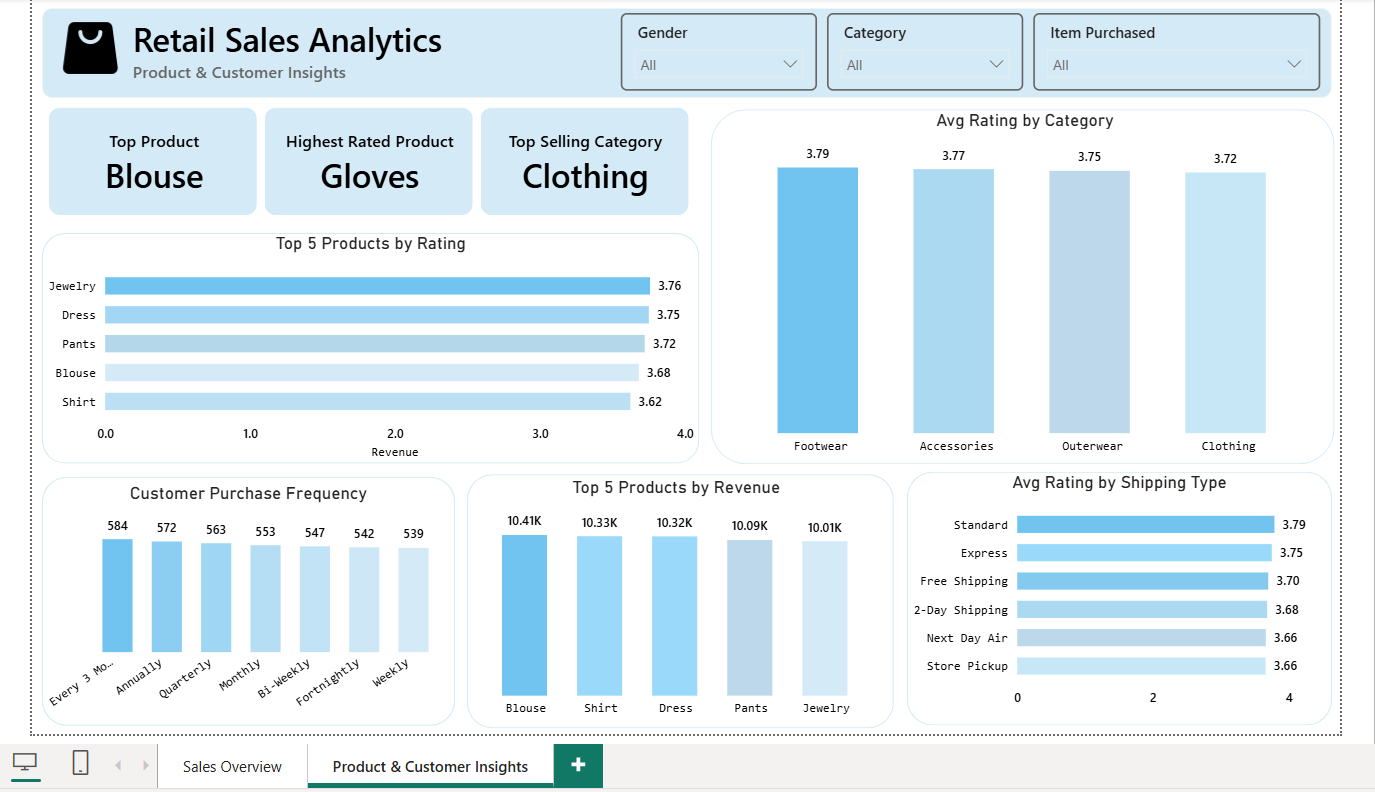

This screenshot's page, from the dashboard's own definition file:
{"tool":"powerbi","page":{"name":"Product & Customer Insights","canvas":[1280,720],"ordinal":1},"visuals":[{"type":"textbox","box":[9.7,9.7,1261.9,88.1],"z":0},{"type":"slicer","fields":{"Values":["customer_shopping.item_purchased"]},"box":[979.6,14.5,281.1,76],"z":1000},{"type":"slicer","fields":{"Values":["customer_shopping.category"]},"box":[778.2,14.5,191.8,76],"z":2000},{"type":"cardVisual","fields":{"Data":["All Measures.Top Product","All Measures.Highest Rated Product","All Measures.Top Selling Category"]},"box":[0,90.5,661.6,139.4],"z":3000},{"type":"image","box":[25.7,7.3,62.4,83.2],"z":5000},{"type":"shape","box":[9.7,230.4,643,225.6],"z":6000},{"type":"barChart","title":"Top 5 Products by Rating","fields":{"Category":["customer_shopping.item_purchased"],"Y":["Avg(customer_shopping.review_rating)"]},"box":[9.8,229.9,643.2,226.2],"z":7000},{"type":"shape","box":[664,108.8,610.2,347.3],"z":8000},{"type":"shape","box":[425.9,465.7,417.4,248.5],"z":8500},{"type":"columnChart","title":"Top 5 Products by Revenue","fields":{"Y":["All Measures.Total Revenue"],"Category":["customer_shopping.item_purchased"]},"box":[425.5,468.3,409.6,243.3],"z":9000},{"type":"shape","box":[9.7,468.1,404.2,243.7],"z":10000},{"type":"columnChart","title":"Customer Purchase Frequency","fields":{"Category":["customer_shopping.frequency_of_purchases"],"Y":["Count(customer_shopping.customer_id)"]},"box":[9.7,474.1,404.2,237.7],"z":11000},{"type":"shape","box":[856,463.5,415.8,248.2],"z":13000},{"type":"columnChart","title":"Avg Rating by Category","fields":{"Category":["customer_shopping.category"],"Y":["Avg(customer_shopping.review_rating)"]},"box":[671.3,108.8,600.4,346.1],"z":14000},{"type":"slicer","fields":{"Values":["customer_shopping.gender"]},"box":[575.5,14.5,191.8,76],"z":15000},{"type":"barChart","title":"Avg Rating by Shipping Type","fields":{"Y":["Avg(customer_shopping.review_rating)"],"Category":["customer_shopping.shipping_type"]},"box":[856,463.5,415.8,239.7],"z":16000}]}

Visuals, with their boxes on the page's 1280x720 design canvas (x1, y1, x2, y2). These are canvas units, not pixel positions in the 1375x792 screenshot, which may show the page scaled, cropped or inside an application window:
textbox: 10, 10, 1272, 98
slicer - customer_shopping.item_purchased: 980, 14, 1261, 90
slicer - customer_shopping.category: 778, 14, 970, 90
cardVisual - All Measures.Top Product x All Measures.Highest Rated Product: 0, 90, 662, 230
image: 26, 7, 88, 90
shape: 10, 230, 653, 456
"Top 5 Products by Rating" barChart: 10, 230, 653, 456
shape: 664, 109, 1274, 456
shape: 426, 466, 843, 714
"Top 5 Products by Revenue" columnChart: 426, 468, 835, 712
shape: 10, 468, 414, 712
"Customer Purchase Frequency" columnChart: 10, 474, 414, 712
shape: 856, 464, 1272, 712
"Avg Rating by Category" columnChart: 671, 109, 1272, 455
slicer - customer_shopping.gender: 576, 14, 767, 90
"Avg Rating by Shipping Type" barChart: 856, 464, 1272, 703
